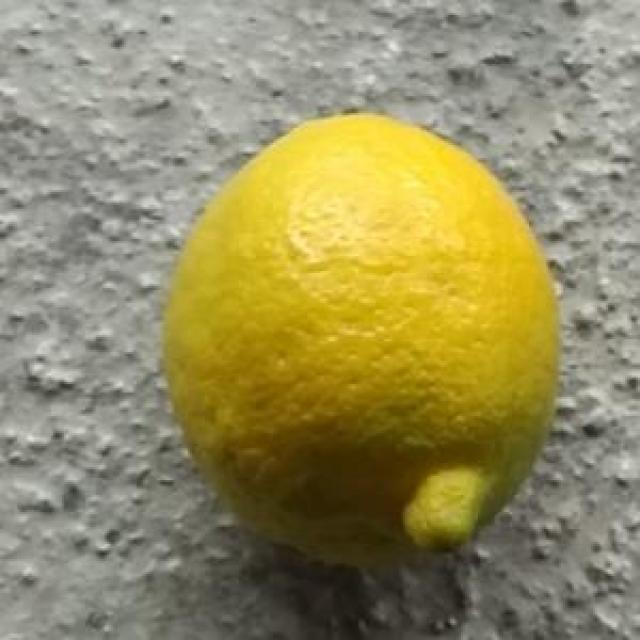lemon: (163, 108, 567, 568)
